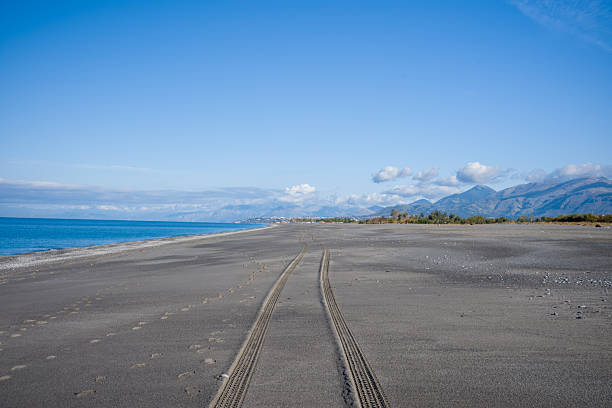vehicle_track: (210, 244, 306, 407), (320, 246, 388, 407)
